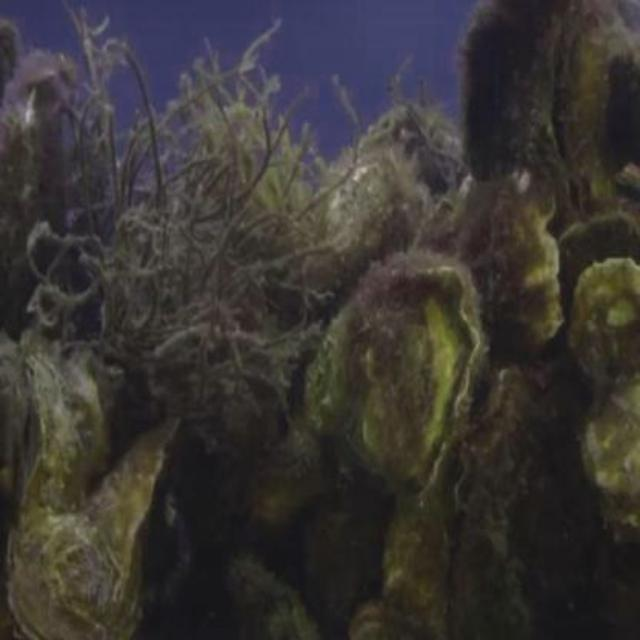Oyster-Closed: (444, 356, 628, 638), (16, 413, 174, 638), (406, 170, 576, 359), (457, 0, 570, 192), (11, 344, 105, 530), (544, 11, 623, 229), (390, 443, 462, 638), (220, 555, 327, 638), (577, 257, 638, 378), (597, 384, 638, 519), (0, 333, 29, 506), (351, 600, 419, 638)
Oyster-Open: (300, 256, 486, 488)
